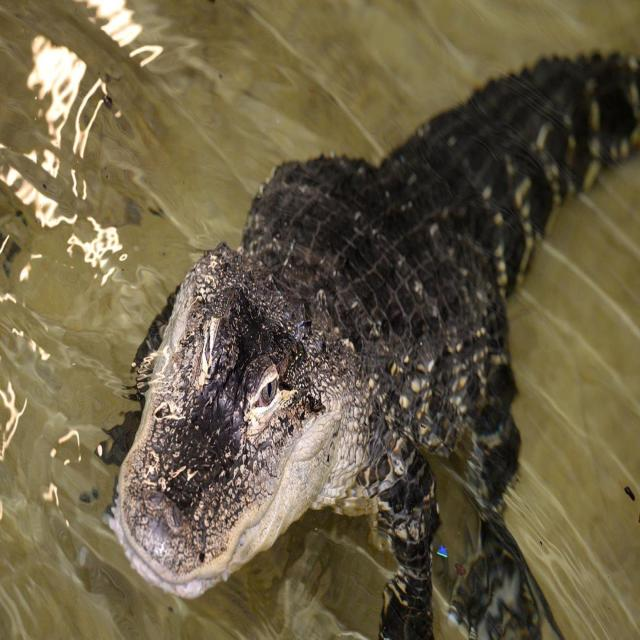crocodile: (112, 43, 640, 639)
